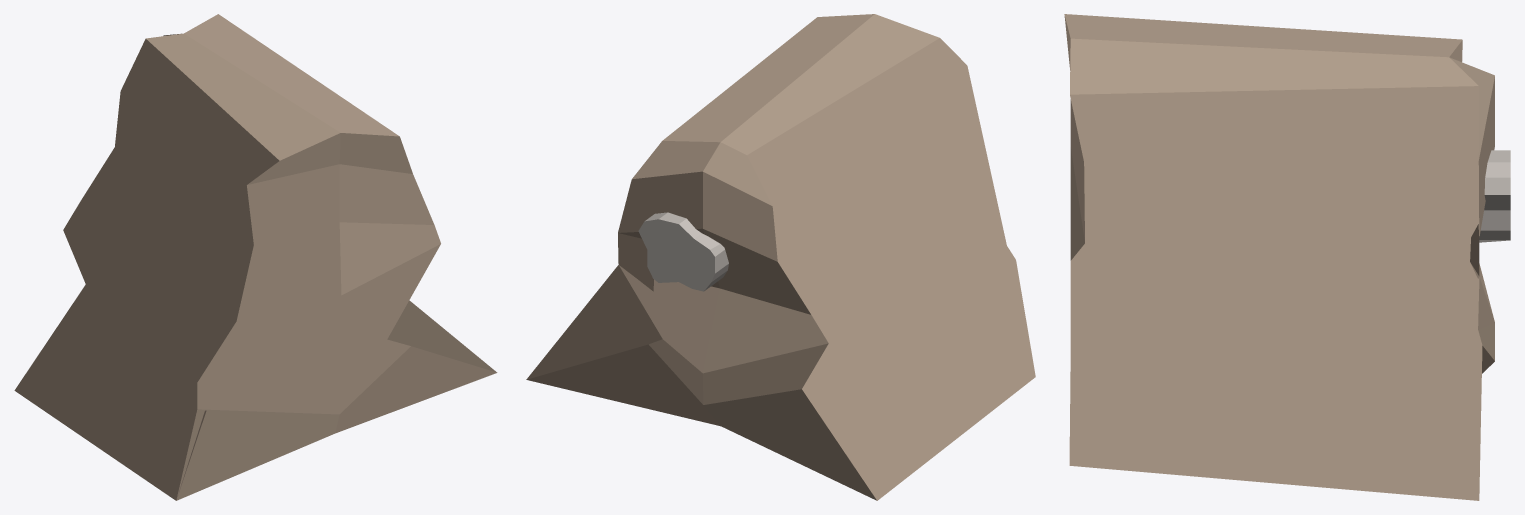
Rendered from DirtJoiner.fbx.
The picture shows the model from 3 angles, left to right: view 1: azimuth 30°, elevation 25°; view 2: azimuth 150°, elevation 25°; view 3: azimuth 270°, elevation 25°; orthographic projection. The views are drawn at different scales.
Visible parts, largest first — view 1: polySurface173; view 2: polySurface173; view 3: polySurface173.
Part boxes in pixels (<box>): polySurface173: <box>14,14,497,500</box>; polySurface173: <box>526,14,1035,500</box>; polySurface173: <box>1064,14,1510,500</box>.
Size of the model in its own units: 2.29 by 2.11 by 2.1.
